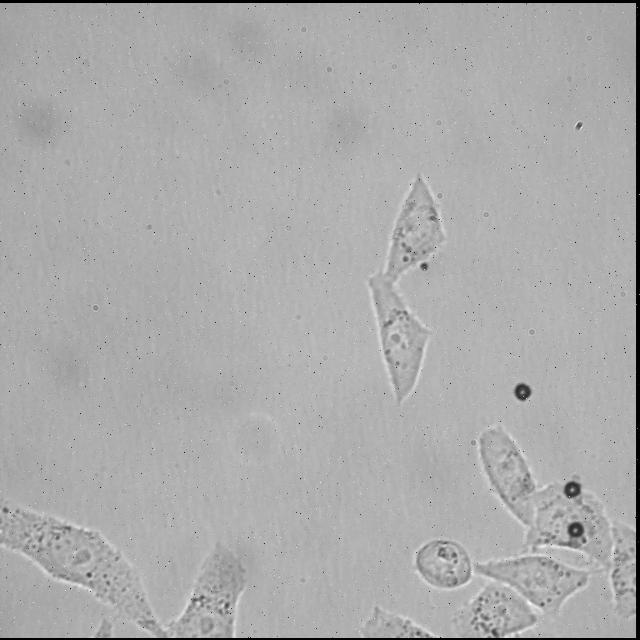microbeads: (514, 380, 532, 402), (564, 477, 582, 499), (564, 518, 586, 536)
